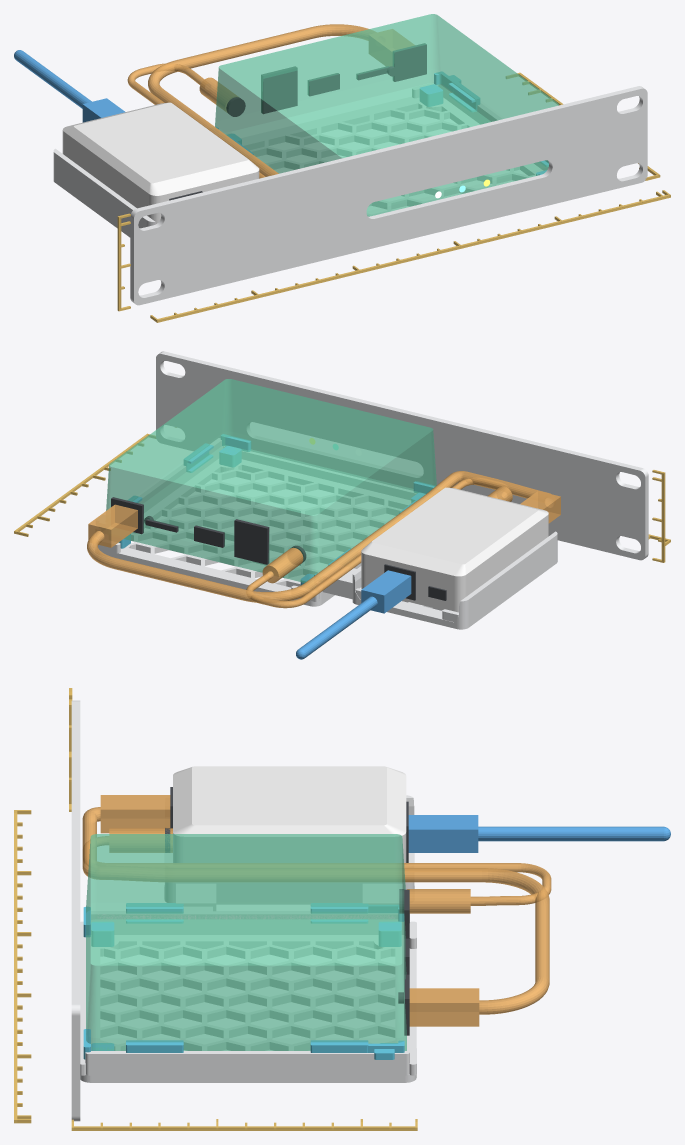
Rendered from home-assistant-green-rack-compact-no_shutter.glb.
3 views of the same model, one above another, from view 1: azimuth 30°, elevation 25°; view 2: azimuth 150°, elevation 25°; view 3: azimuth 270°, elevation 25° (orthographic). The views are drawn at different scales.
Parts seen in each view (by area): view 1: White rack mount, Home Assistant Green, TP-Link TL-PD30G-M2, Green tray — standard, Ethernet cable — bend-radius warning, 10 mm dimension rulers, Home Assistant Green connector faces, TP-Link cradle side walls, Incoming PoE cable, DC cable — bend-radius warning, Green retention — segmented rails + rear latch, Home Assistant logo (+1 smaller); view 2: Home Assistant Green, White rack mount, Green tray — standard, TP-Link TL-PD30G-M2, Ethernet cable — bend-radius warning, Home Assistant Green connector faces, TP-Link cradle side walls, DC cable — bend-radius warning, Incoming PoE cable, Green retention — segmented rails + rear latch, 10 mm dimension rulers, TP-Link cradle floor (+1 smaller); view 3: Home Assistant Green, Green tray — standard, TP-Link TL-PD30G-M2, Ethernet cable — bend-radius warning, DC cable — bend-radius warning, Green retention — segmented rails + rear latch, White rack mount, Incoming PoE cable, 10 mm dimension rulers, TP-Link cradle side walls, TP-Link cradle floor, Home Assistant Green connector faces.
Part boxes in pixels (x1,y1,x2,y2): White rack mount: [130, 86, 647, 305]; Home Assistant Green: [215, 14, 558, 216]; TP-Link TL-PD30G-M2: [62, 102, 259, 223]; Green tray — standard: [225, 83, 548, 216]; Ethernet cable — bend-radius warning: [148, 24, 414, 176]; 10 mm dimension rulers: [117, 72, 670, 322]; Home Assistant Green connector faces: [226, 43, 426, 116]; TP-Link cradle side walls: [53, 148, 155, 230]; Incoming PoE cable: [14, 50, 125, 122]; DC cable — bend-radius warning: [127, 63, 265, 178]; Green retention — segmented rails + rear latch: [216, 71, 548, 175]; Home Assistant logo: [241, 206, 281, 254]; Home Assistant Green: [106, 379, 436, 582]; White rack mount: [156, 351, 648, 599]; Green tray — standard: [98, 438, 416, 606]; TP-Link TL-PD30G-M2: [361, 487, 548, 612]; Ethernet cable — bend-radius warning: [87, 471, 560, 602]; Home Assistant Green connector faces: [111, 497, 306, 564]; TP-Link cradle side walls: [352, 531, 557, 623]; DC cable — bend-radius warning: [246, 478, 512, 608]; Incoming PoE cable: [296, 570, 411, 659]; Green retention — segmented rails + rear latch: [119, 434, 435, 585]; 10 mm dimension rulers: [14, 427, 670, 562]; TP-Link cradle floor: [352, 556, 557, 629]; Home Assistant Green: [86, 834, 406, 1050]; Green tray — standard: [80, 911, 416, 1082]; TP-Link TL-PD30G-M2: [173, 766, 406, 862]; Ethernet cable — bend-radius warning: [82, 795, 549, 1026]; DC cable — bend-radius warning: [83, 828, 551, 913]; Green retention — segmented rails + rear latch: [83, 903, 404, 1059]; White rack mount: [71, 700, 402, 1121]; Incoming PoE cable: [408, 815, 670, 852]; 10 mm dimension rulers: [14, 688, 417, 1130]; TP-Link cradle side walls: [164, 795, 414, 896]; TP-Link cradle floor: [164, 853, 414, 904]; Home Assistant Green connector faces: [398, 889, 409, 1035].
Size of what is drawn, in the model's own units: 268 by 44.45 by 227.
